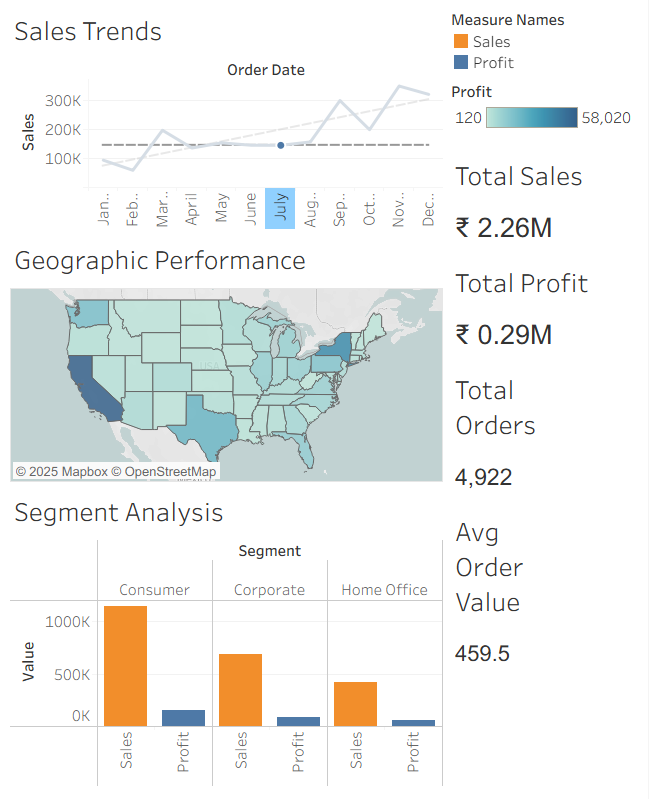

The page's visual inventory and layout, read from the dashboard file:
{"tool":"tableau","page":{"name":"Executive Summary","canvas":[650,860],"ordinal":0},"visuals":[{"type":"worksheet","title":"Sales Trends","mark":"Automatic","rows":["Sales"],"cols":["Order Date"],"box":[8,8.6,441,245.5]},{"type":"legend","title":"Segment Analysis","param":"[federated.1o0yz8g1yuuaiw13vqzjv0dby618].[:Measure Names]","box":[449,8.6,193,77.2]},{"type":"legend","title":"Geographic Performance","param":"[federated.1o0yz8g1yuuaiw13vqzjv0dby618].[sum:Calculation_1061160718795669504:qk","box":[449,85.8,193,78.3]},{"type":"worksheet","title":"Total Sales","mark":"Text","box":[449,164.1,193,114.7]},{"type":"worksheet","title":"Geographic Performance","mark":"Automatic","box":[8,254.1,441,270.2]},{"type":"worksheet","title":"Total Profit","mark":"Text","box":[449,278.8,193,114.7]},{"type":"worksheet","title":"Total Orders","mark":"Text","box":[449,393.6,193,152.3]},{"type":"worksheet","title":"Segment Analysis","mark":"Bar","cols":["Segment"],"box":[8,524.4,441,327.1]},{"type":"worksheet","title":"Avg Order Value","mark":"Text","box":[449,545.8,193,189.8]}]}

Visuals, with their boxes on the page's 650x860 design canvas (x1, y1, x2, y2). These are canvas units, not pixel positions in the 649x799 screenshot, which may show the page scaled, cropped or inside an application window:
"Sales Trends" worksheet: Rect(8, 9, 449, 254)
"Segment Analysis" legend: Rect(449, 9, 642, 86)
"Geographic Performance" legend: Rect(449, 86, 642, 164)
"Total Sales" worksheet (Text marks): Rect(449, 164, 642, 279)
"Geographic Performance" worksheet: Rect(8, 254, 449, 524)
"Total Profit" worksheet (Text marks): Rect(449, 279, 642, 394)
"Total Orders" worksheet (Text marks): Rect(449, 394, 642, 546)
"Segment Analysis" worksheet (Bar marks): Rect(8, 524, 449, 852)
"Avg Order Value" worksheet (Text marks): Rect(449, 546, 642, 736)
